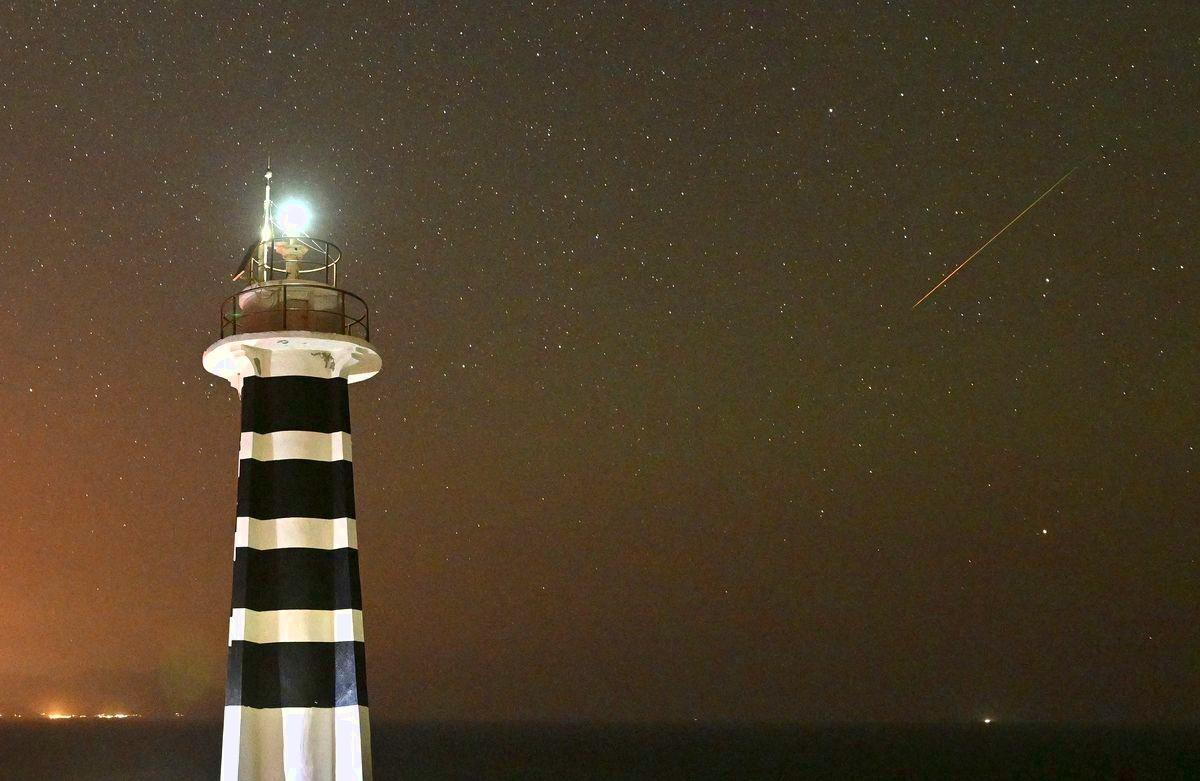meteorite: (883, 167, 1075, 323)
